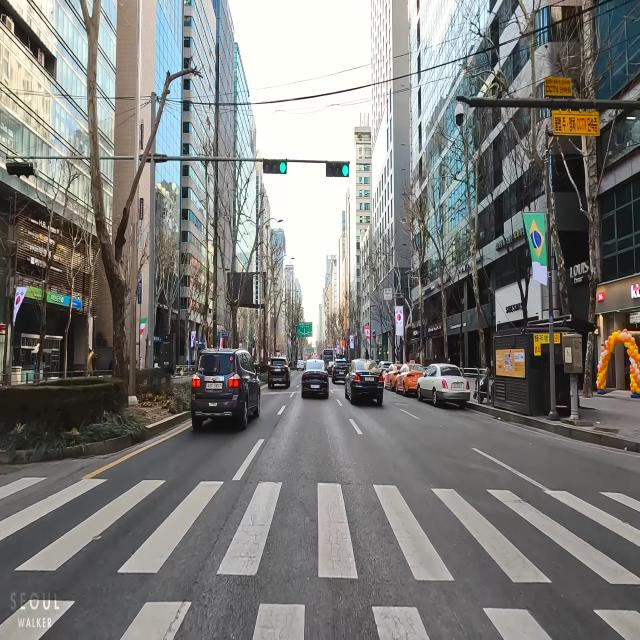Green Light: (279, 159, 287, 174), (341, 164, 349, 178)
